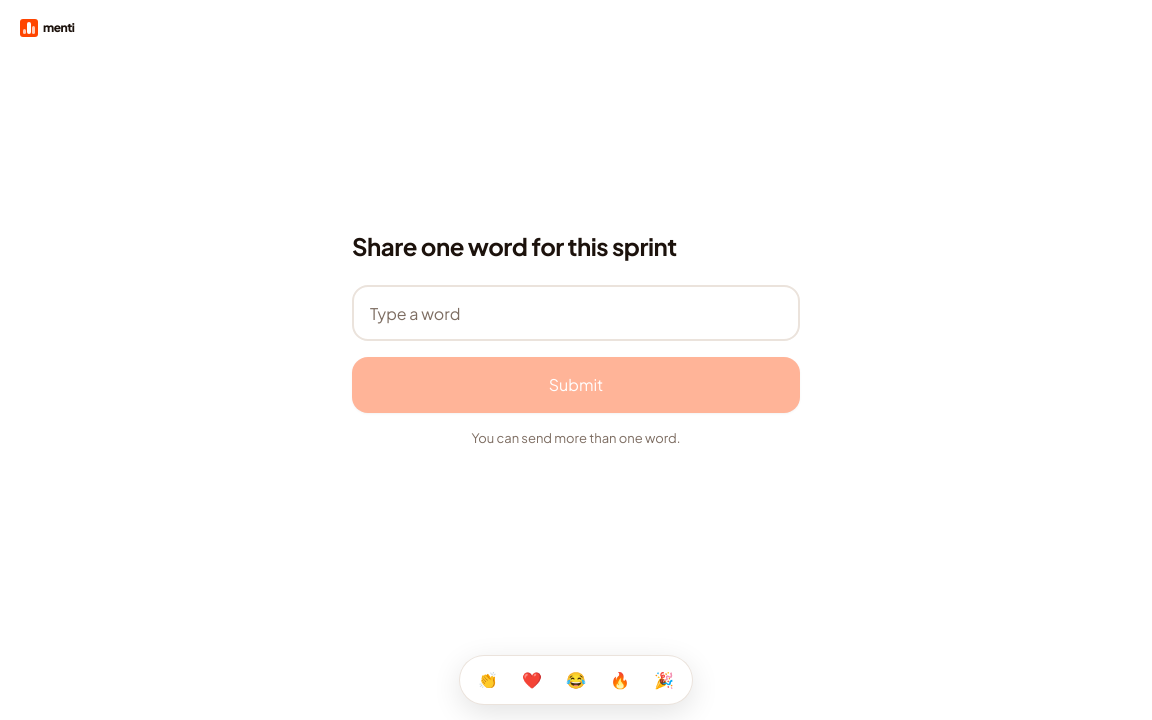
Test case: VotePage › submits word-cloud responses without locking the participant out
Expected: the heading "Share one word for this sprint" is shown, [352,231,677,261]
Type "productive" into the field named "your word" at (576, 313), box [352,285,800,341]
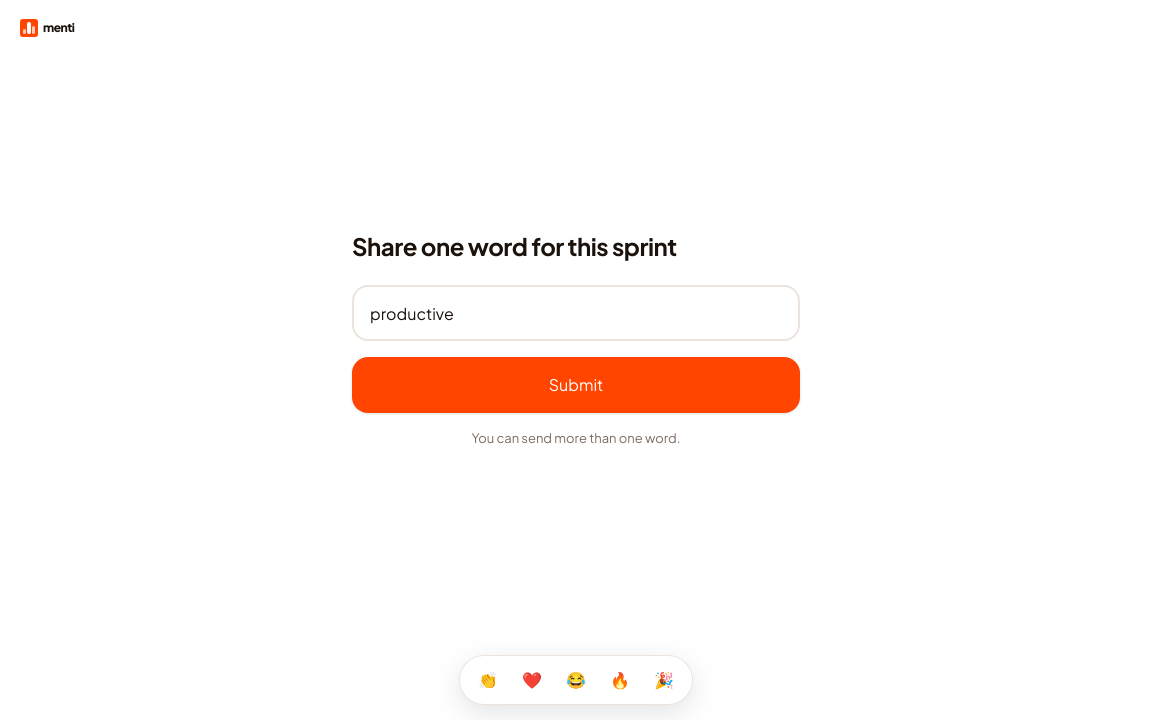
Click the button "Submit" at (576, 385), box [352,357,800,413]
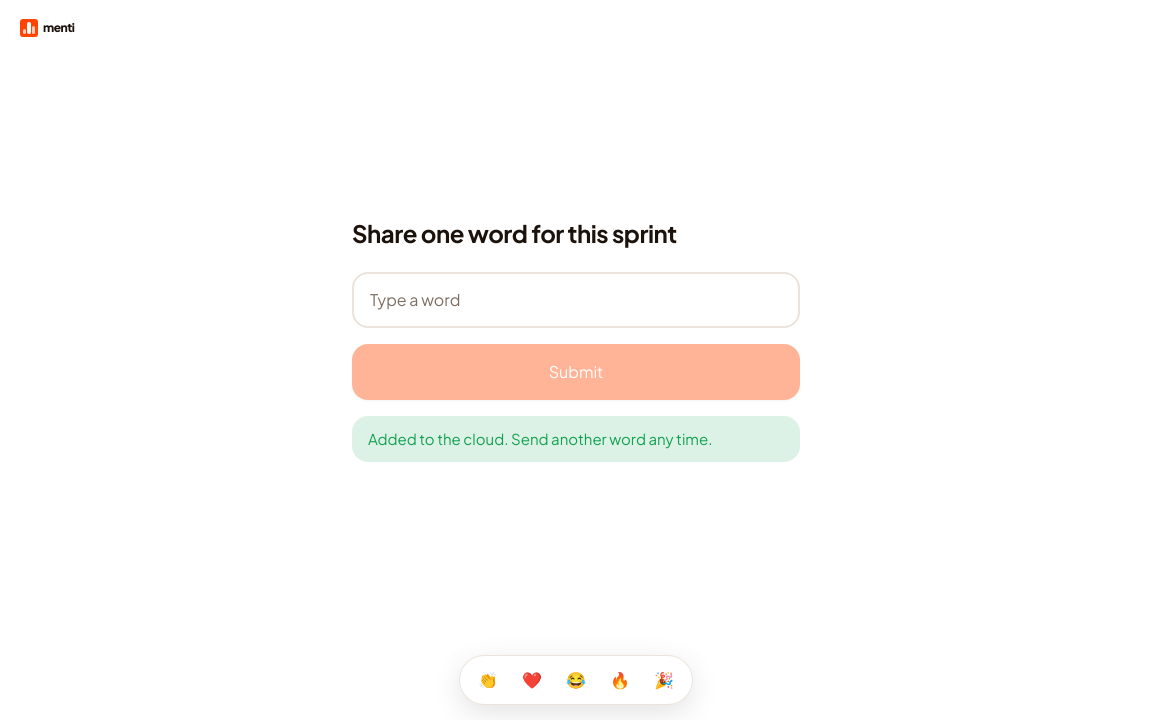
Expected: the text "Added to the cloud. Send another word any time." is shown, [352,416,800,462]
Expected: the field named "your word" is empty, [352,272,800,328]
